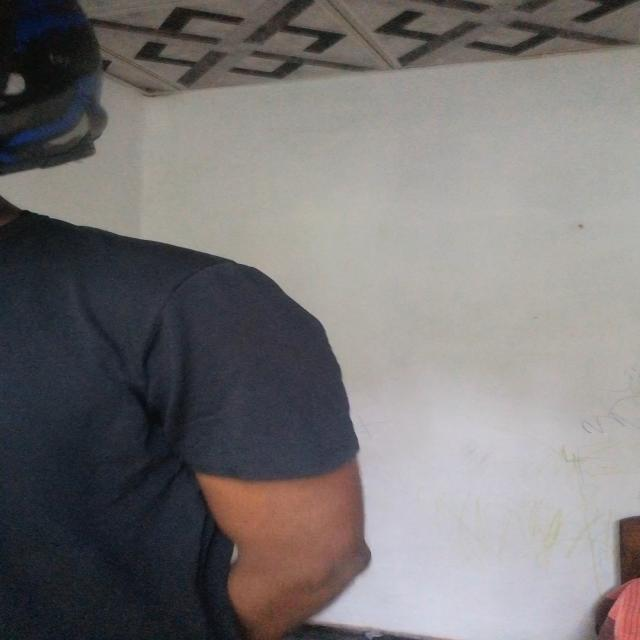Helmet_Wearer: (0, 4, 198, 209)
